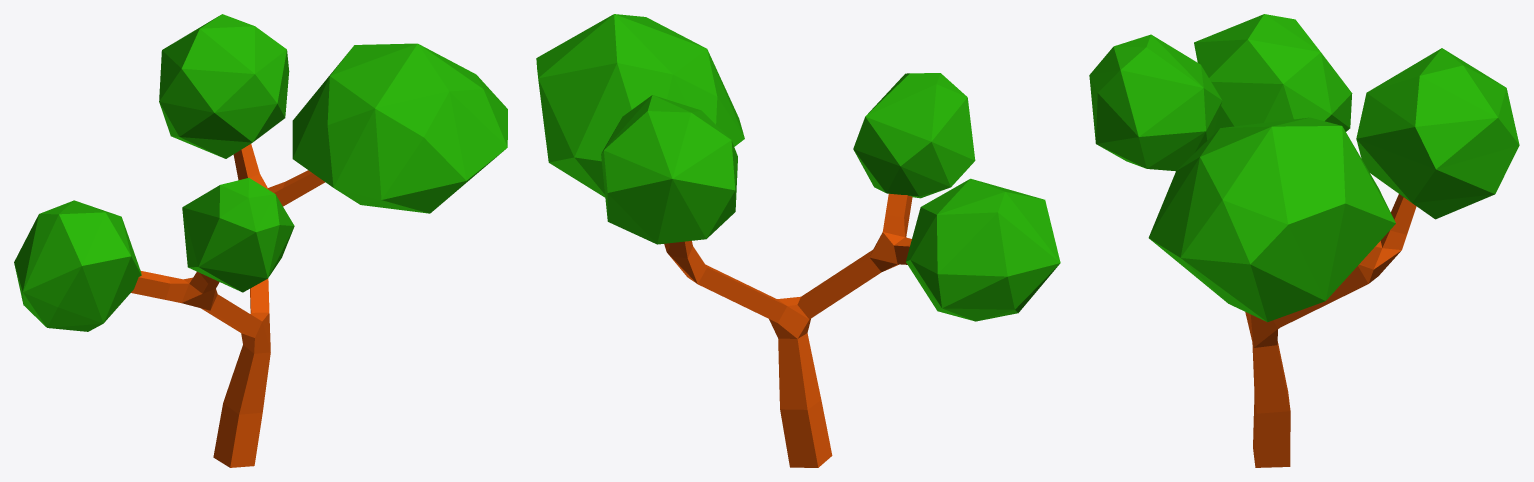
The model's file is DobreDrzewov2m2.fbx.
The picture shows the model from 3 angles, left to right: view 1: azimuth 30°, elevation 25°; view 2: azimuth 150°, elevation 25°; view 3: azimuth 270°, elevation 25°; orthographic projection. The views are drawn at different scales.
Visible parts, largest first — view 1: Kula ico.005, Kula ico.004, Kula ico.002, Kostka, Kula ico.001; view 2: Kula ico.005, Kula ico.002, Kula ico.004, Kostka, Kula ico.001; view 3: Kula ico.005, Kula ico.004, Kula ico.001, Kula ico.002, Kostka.
Boxes of the visible parts, box(x1,y1,x2,y2) form: Kula ico.005: box(292, 43, 507, 213); Kula ico.004: box(159, 14, 289, 158); Kula ico.002: box(14, 200, 141, 331); Kostka: box(131, 144, 324, 467); Kula ico.001: box(182, 178, 294, 292); Kula ico.005: box(536, 14, 744, 197); Kula ico.002: box(906, 178, 1060, 321); Kula ico.004: box(601, 95, 737, 244); Kostka: box(664, 193, 912, 467); Kula ico.001: box(853, 73, 975, 198); Kula ico.005: box(1148, 117, 1395, 322); Kula ico.004: box(1356, 48, 1519, 219); Kula ico.001: box(1089, 34, 1222, 171); Kula ico.002: box(1194, 14, 1352, 134); Kostka: box(1245, 194, 1416, 467).
Size of the model in its own units: 1626 by 1199 by 1067.
